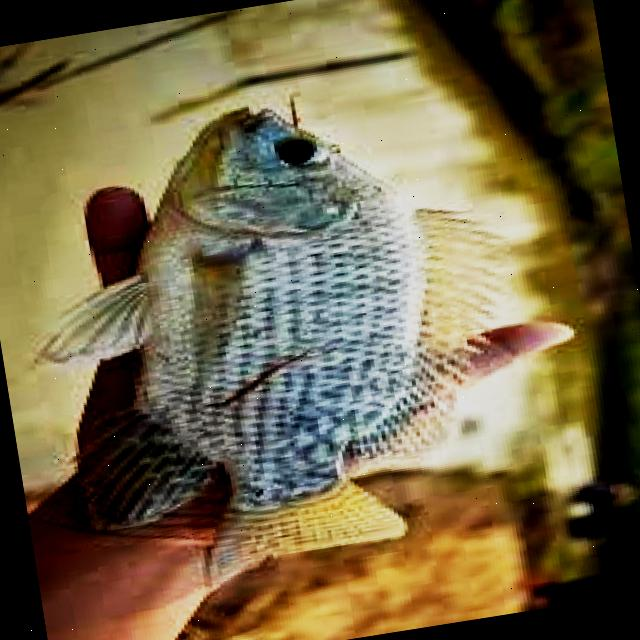Edwardsiella Ictaluri -Bacterial Red Disease-: (41, 109, 572, 574), (44, 110, 507, 572)
